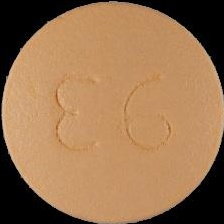0093-8162: (0, 0, 224, 224)
